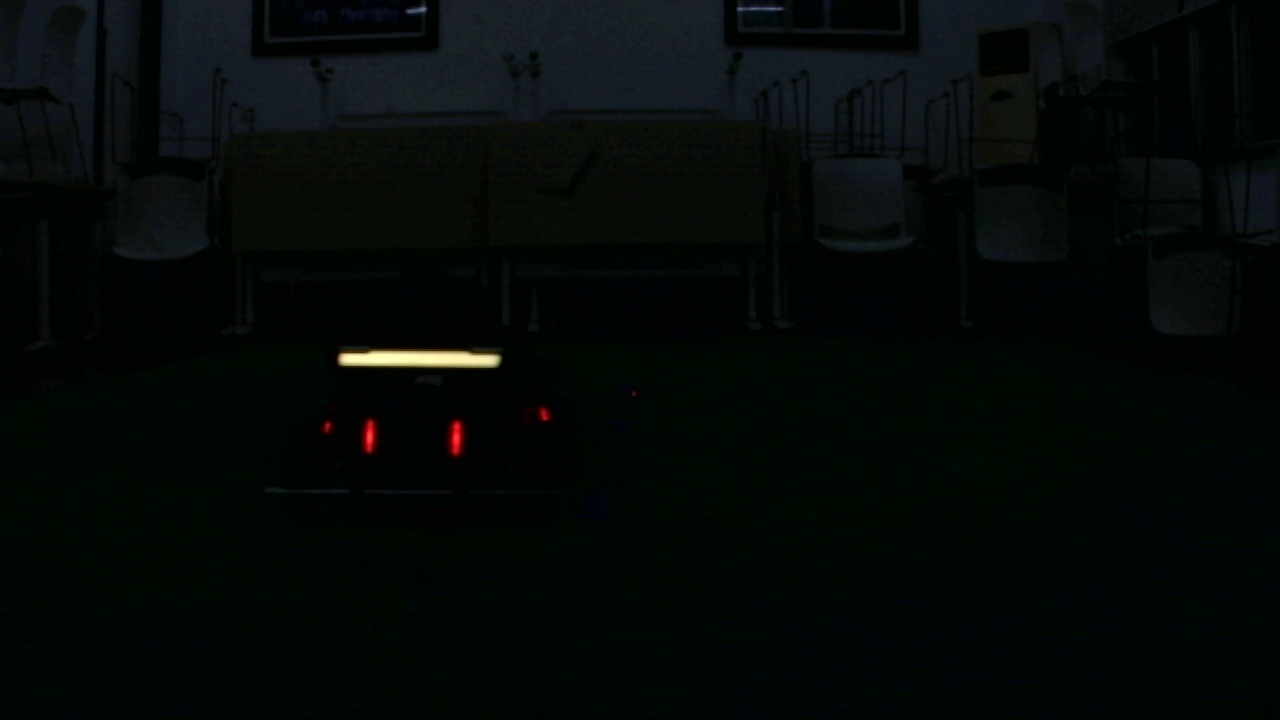lamp: (448, 413, 462, 458), (363, 419, 377, 451)
pair1: (365, 416, 462, 454)
